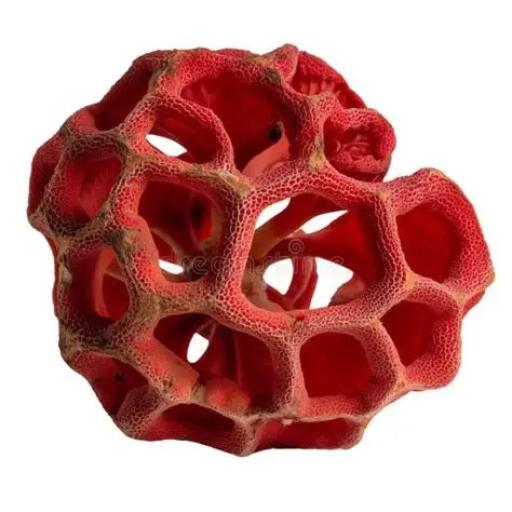mushroom: (23, 43, 502, 457)
